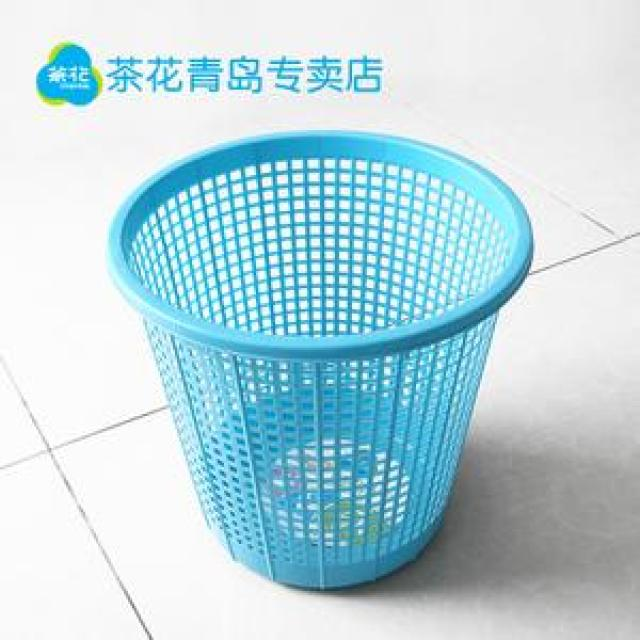dustbin: (100, 124, 539, 597)
